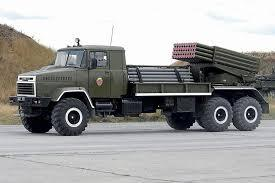MIL_SAM_TEL: (12, 40, 263, 134)
